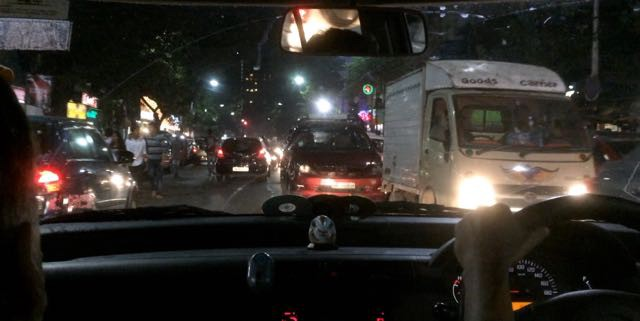car: (29, 115, 138, 222), (282, 120, 386, 208), (217, 138, 269, 184), (186, 138, 209, 166)
truck: (387, 61, 592, 218)
